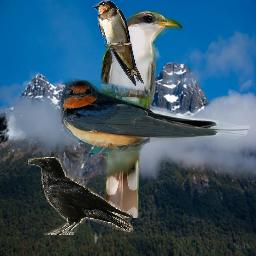Crow: (28, 157, 133, 235)
Cuckoo: (99, 9, 183, 218)
Swallow: (57, 76, 250, 153), (92, 0, 144, 86)
